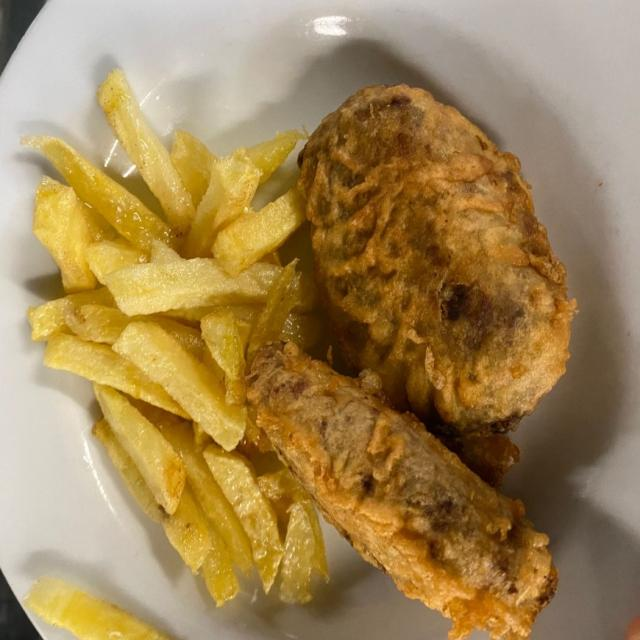ana_yemek: (31, 65, 590, 640)
